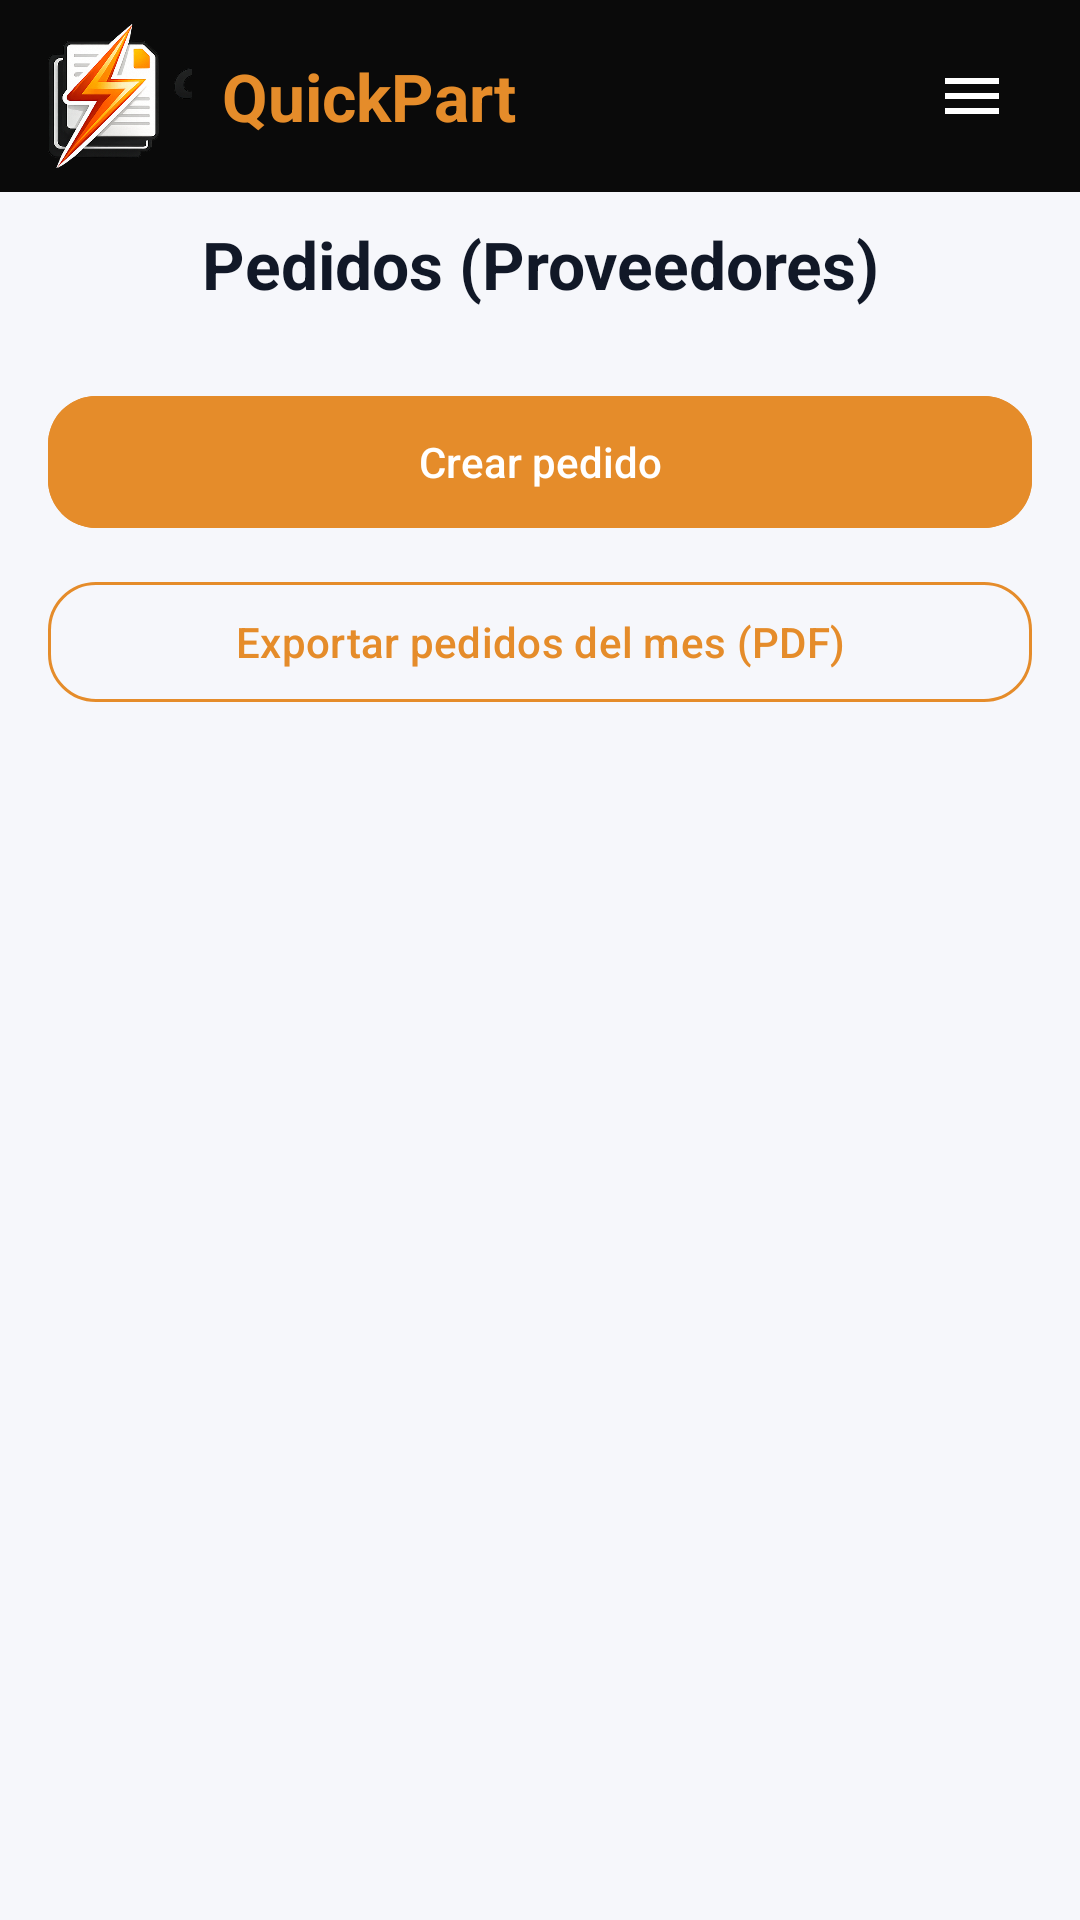

Screen size 1080 x 1920. Icon name, then its box in pixels as (x1, y1, x2, y2):
Menu: (945, 78, 999, 114)
